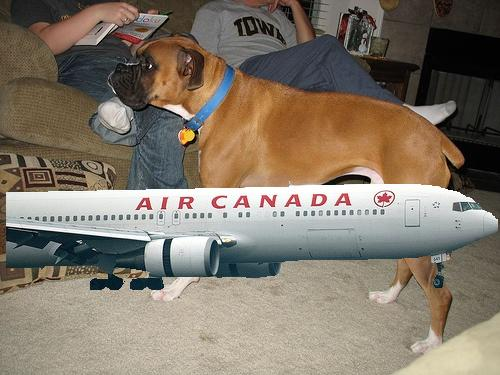tampered: (7, 182, 498, 290)
